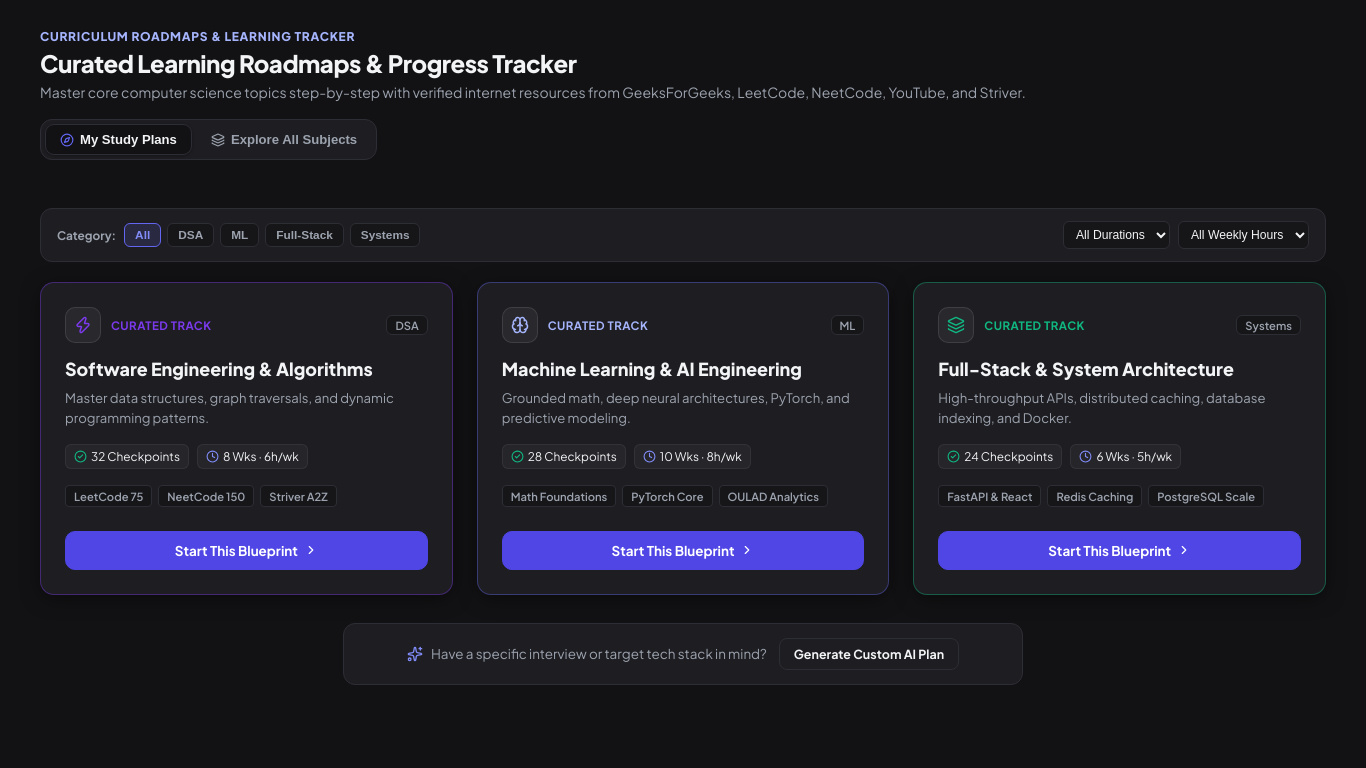
Test case: LearnView roadmaps › shows an empty roadmap message on fetch failure and ignores late results after unmount
Click the button "Explore All Subjects" at (284,140), box [196, 124, 372, 155]
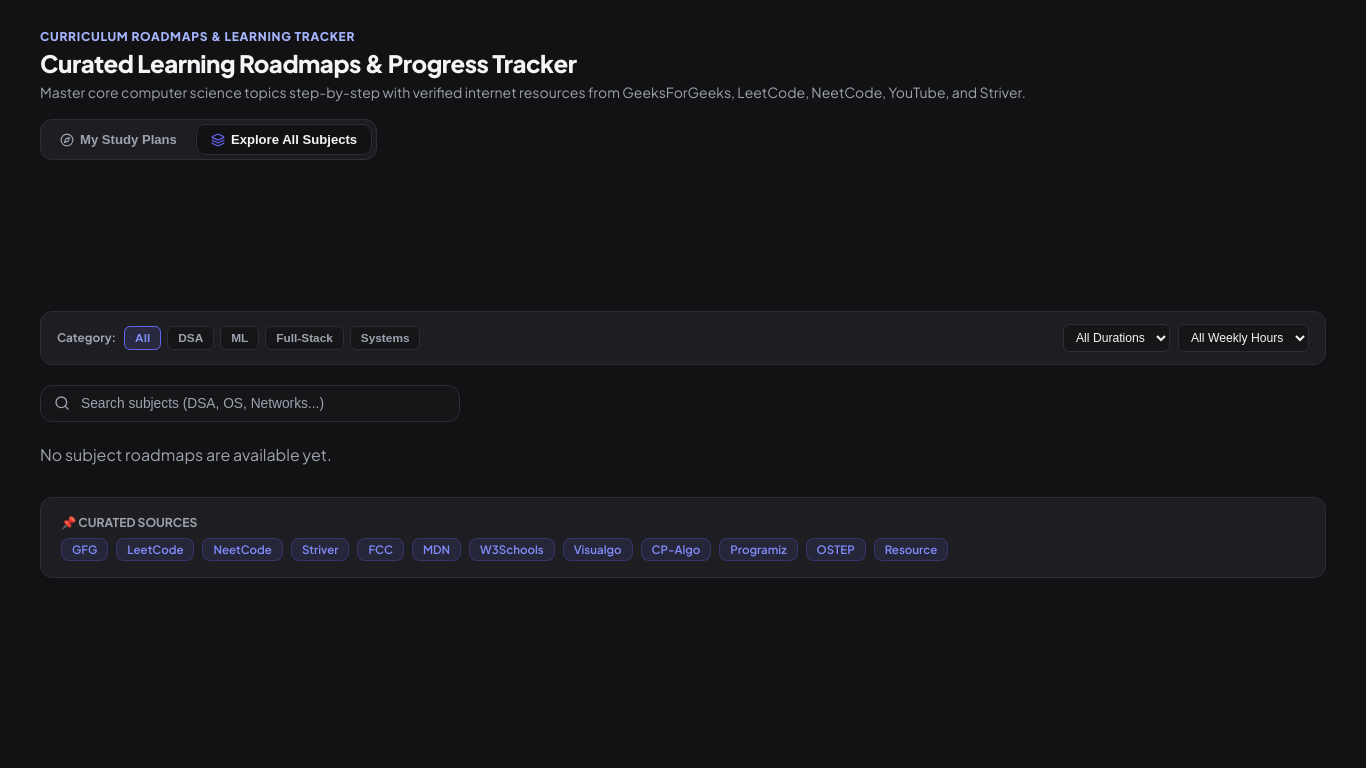
Expected: the text "No subject roadmaps are available yet." is shown, [40, 444, 332, 464]
